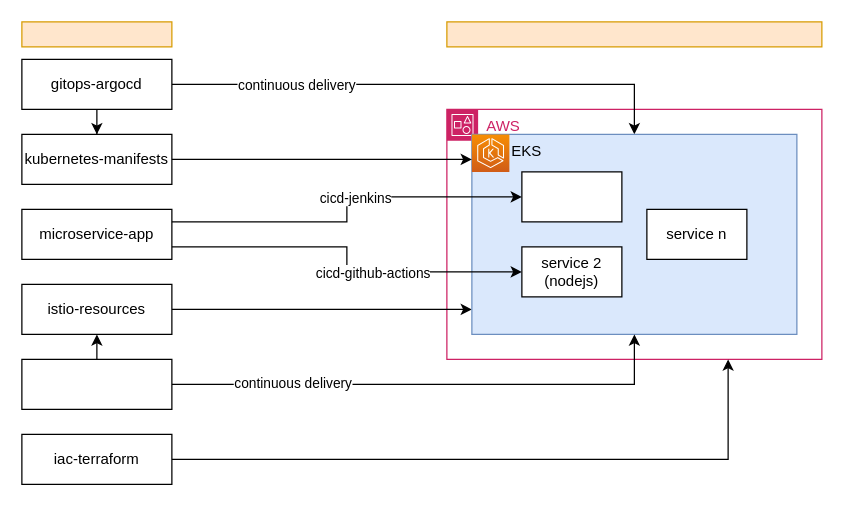
The diagram is 844 pixels wide and 506 high, and some of its shapes have lost their labels. The box of each missing label's shape, as (x1, y1, x2, y2) in pixels:
Code Repositories: (21, 21, 172, 47)
gitops-flux: (21, 358, 172, 409)
Infrastructure: (446, 21, 822, 47)
service 1 (java): (521, 171, 622, 222)
